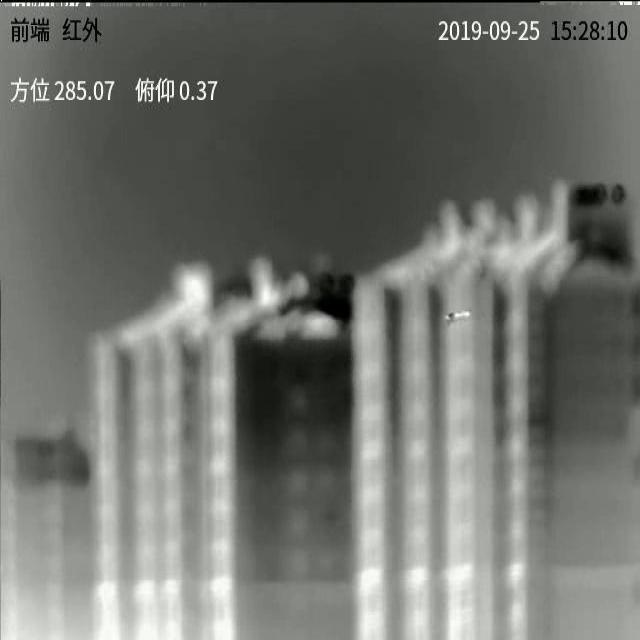drone: (444, 310, 472, 322)
